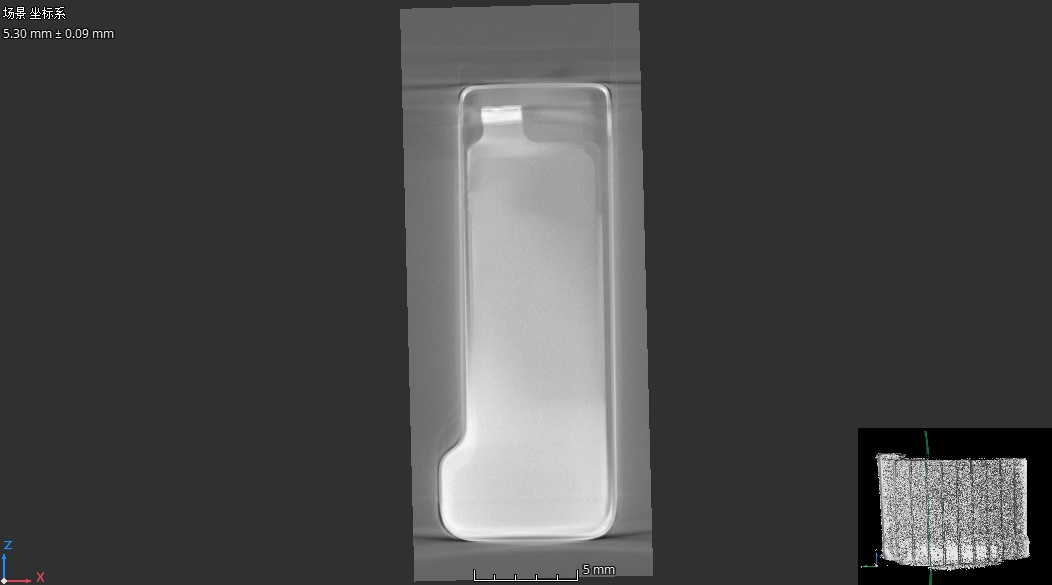damage: (464, 151, 476, 322)
